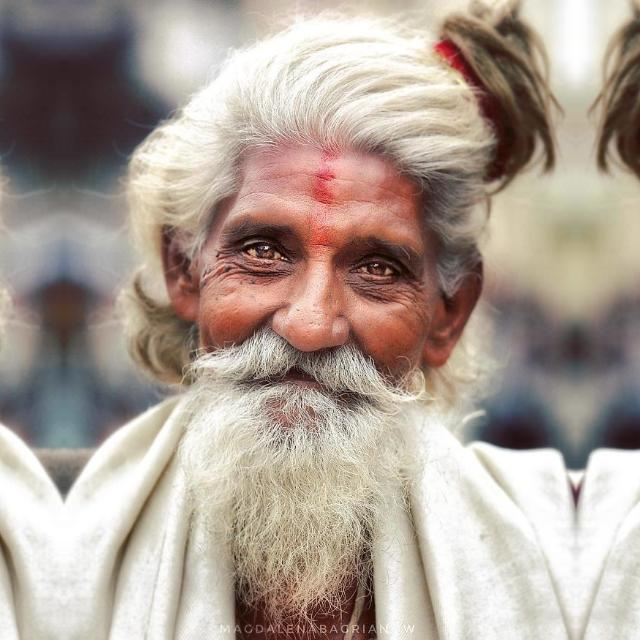person: (66, 0, 576, 640), (576, 0, 640, 640), (0, 0, 62, 640)
